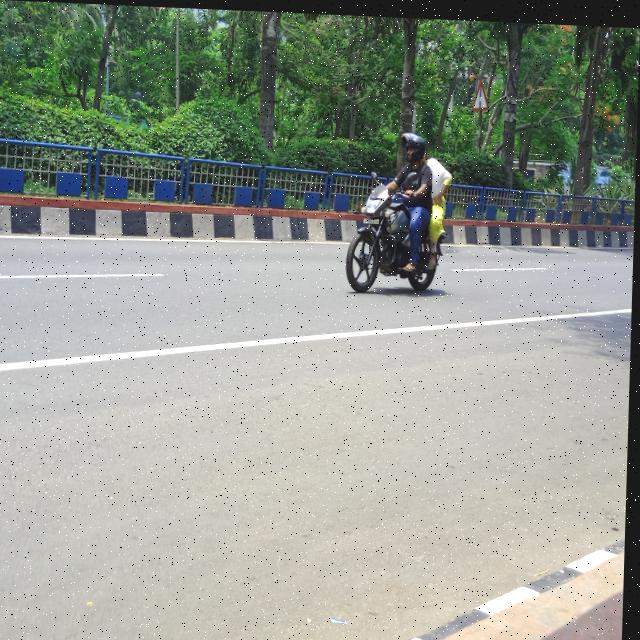bike: (335, 177, 444, 290)
